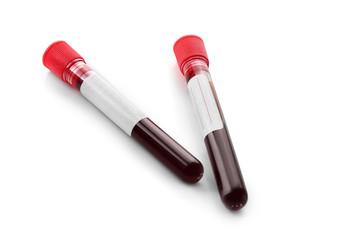Test tube: (34, 15, 254, 222)
